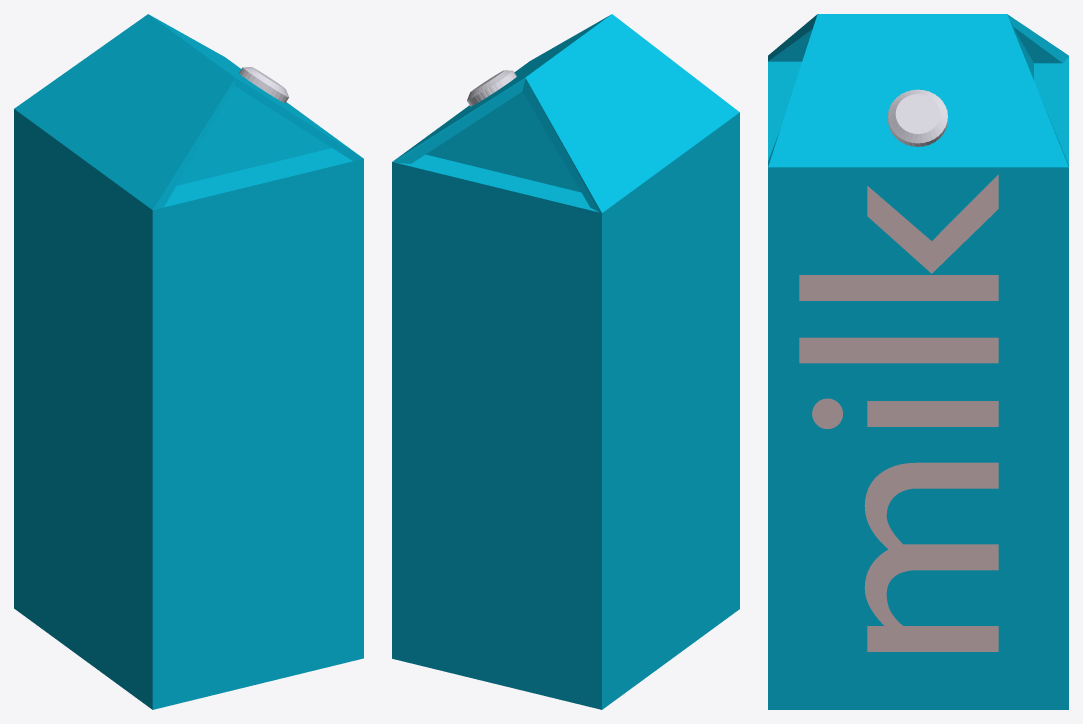
Rendered from milk.fbx.
The picture shows the model from 3 angles, left to right: view 1: azimuth 30°, elevation 25°; view 2: azimuth 150°, elevation 25°; view 3: azimuth 270°, elevation 25°; orthographic projection. The views are drawn at different scales.
Visible parts, largest first — view 1: Cube, Циліндр; view 2: Cube, Циліндр; view 3: Cube, Текст, Циліндр.
Boxes of the visible parts, <box> form: Cube: <box>14,14,363,709</box>; Циліндр: <box>239,67,288,103</box>; Cube: <box>392,14,739,709</box>; Циліндр: <box>467,70,516,106</box>; Cube: <box>768,14,1068,709</box>; Текст: <box>799,174,998,651</box>; Циліндр: <box>888,89,947,146</box>.
Size of the model in its own units: 88.94 by 236 by 101.
